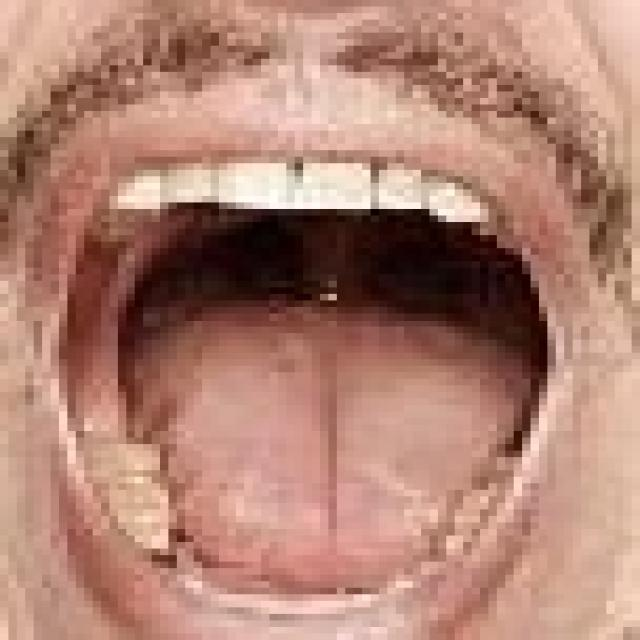open-mouth: (9, 114, 598, 634)
